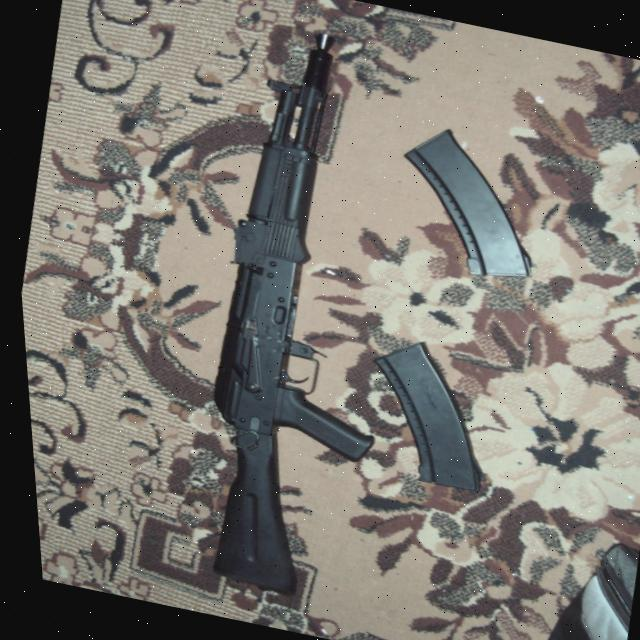firearm: (143, 20, 451, 605)
